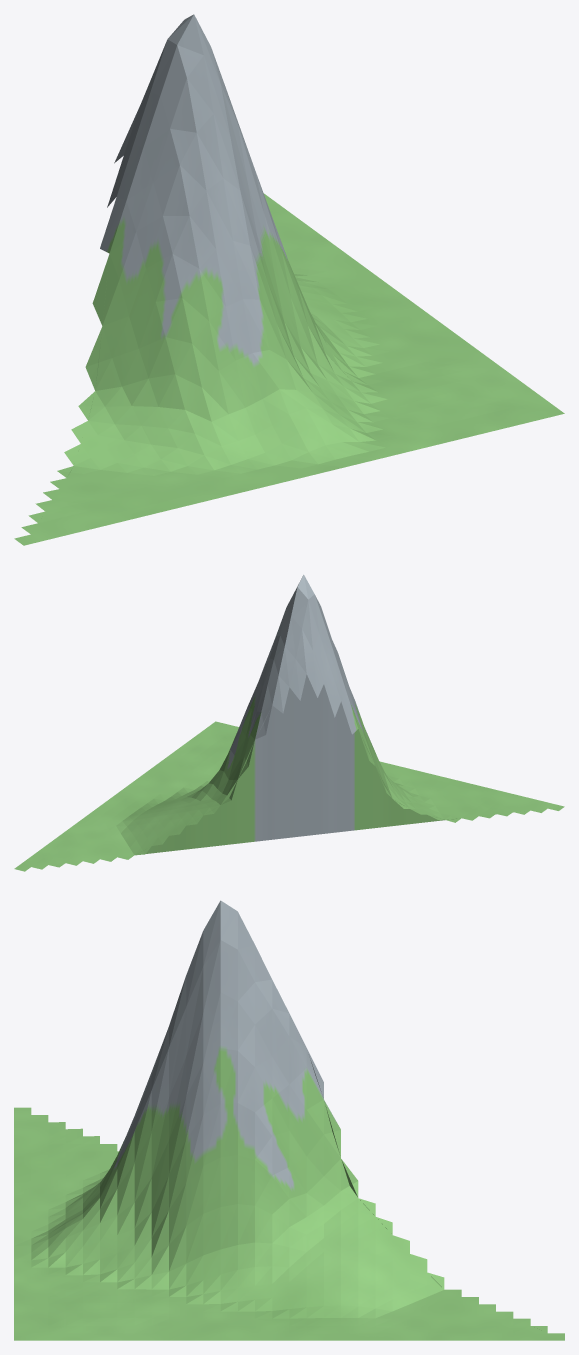
File: Grass_RockyMountains_02_NE.obj
The picture shows the model from 3 angles, top to bottom: view 1: azimuth 30°, elevation 25°; view 2: azimuth 150°, elevation 25°; view 3: azimuth 270°, elevation 25°; orthographic projection. The views are drawn at different scales.
Size of the model in its own units: 10 by 6.63 by 10.
Materials: 1 (1 with a texture image).
